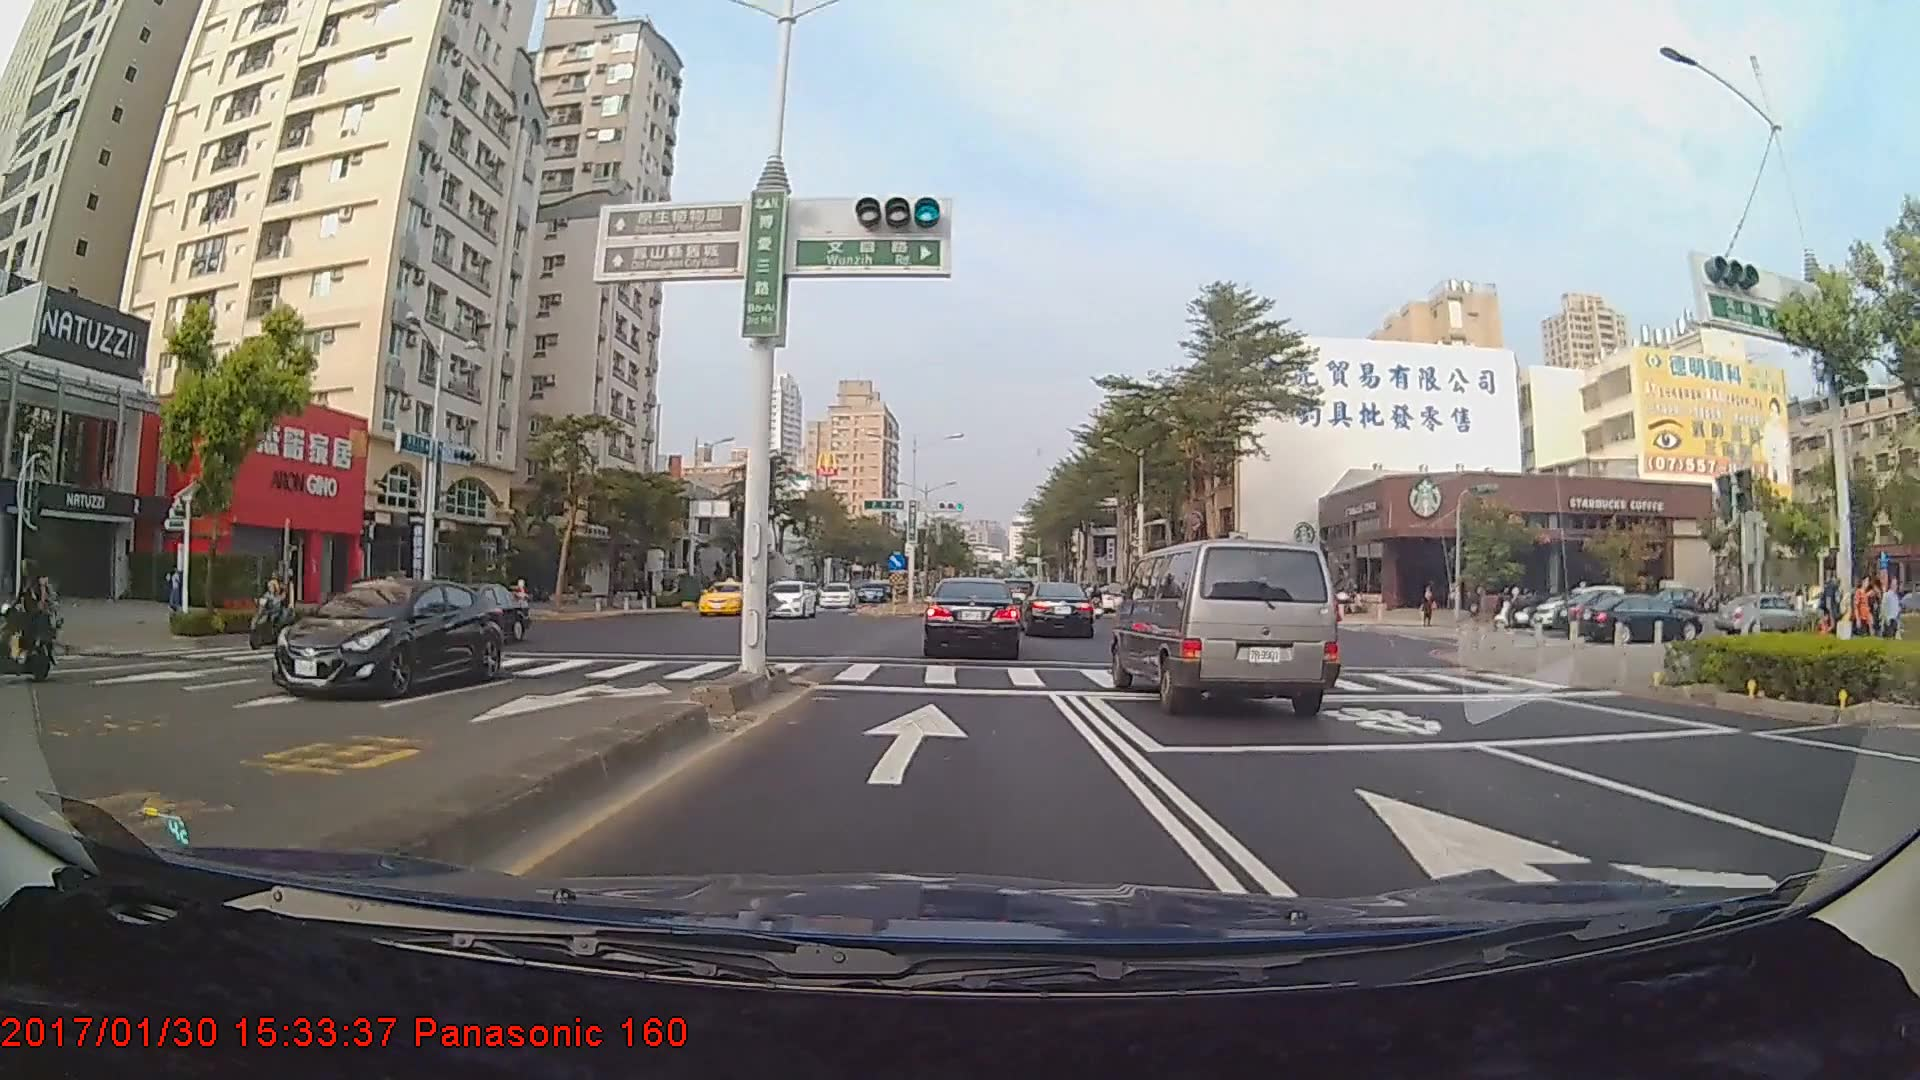pedestrian: (1814, 567, 1842, 656), (1849, 576, 1872, 654), (1882, 580, 1903, 649)
rider: (7, 559, 66, 681), (245, 578, 307, 652), (1492, 583, 1540, 630)
vehicle: (1114, 536, 1341, 717), (268, 577, 505, 701), (920, 578, 1022, 659), (1586, 585, 1715, 646), (1014, 578, 1093, 637), (1718, 588, 1809, 639), (758, 577, 819, 619), (697, 578, 756, 617), (815, 582, 854, 610)
